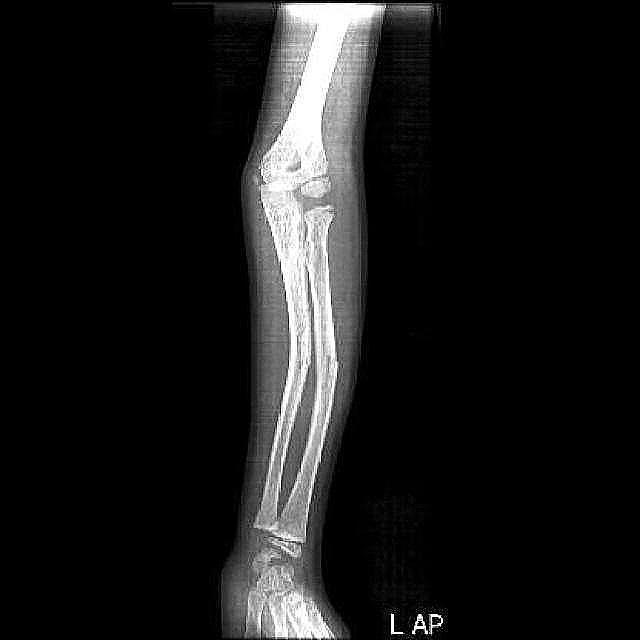bone: (316, 349, 336, 385), (296, 306, 310, 348), (286, 356, 311, 370)
